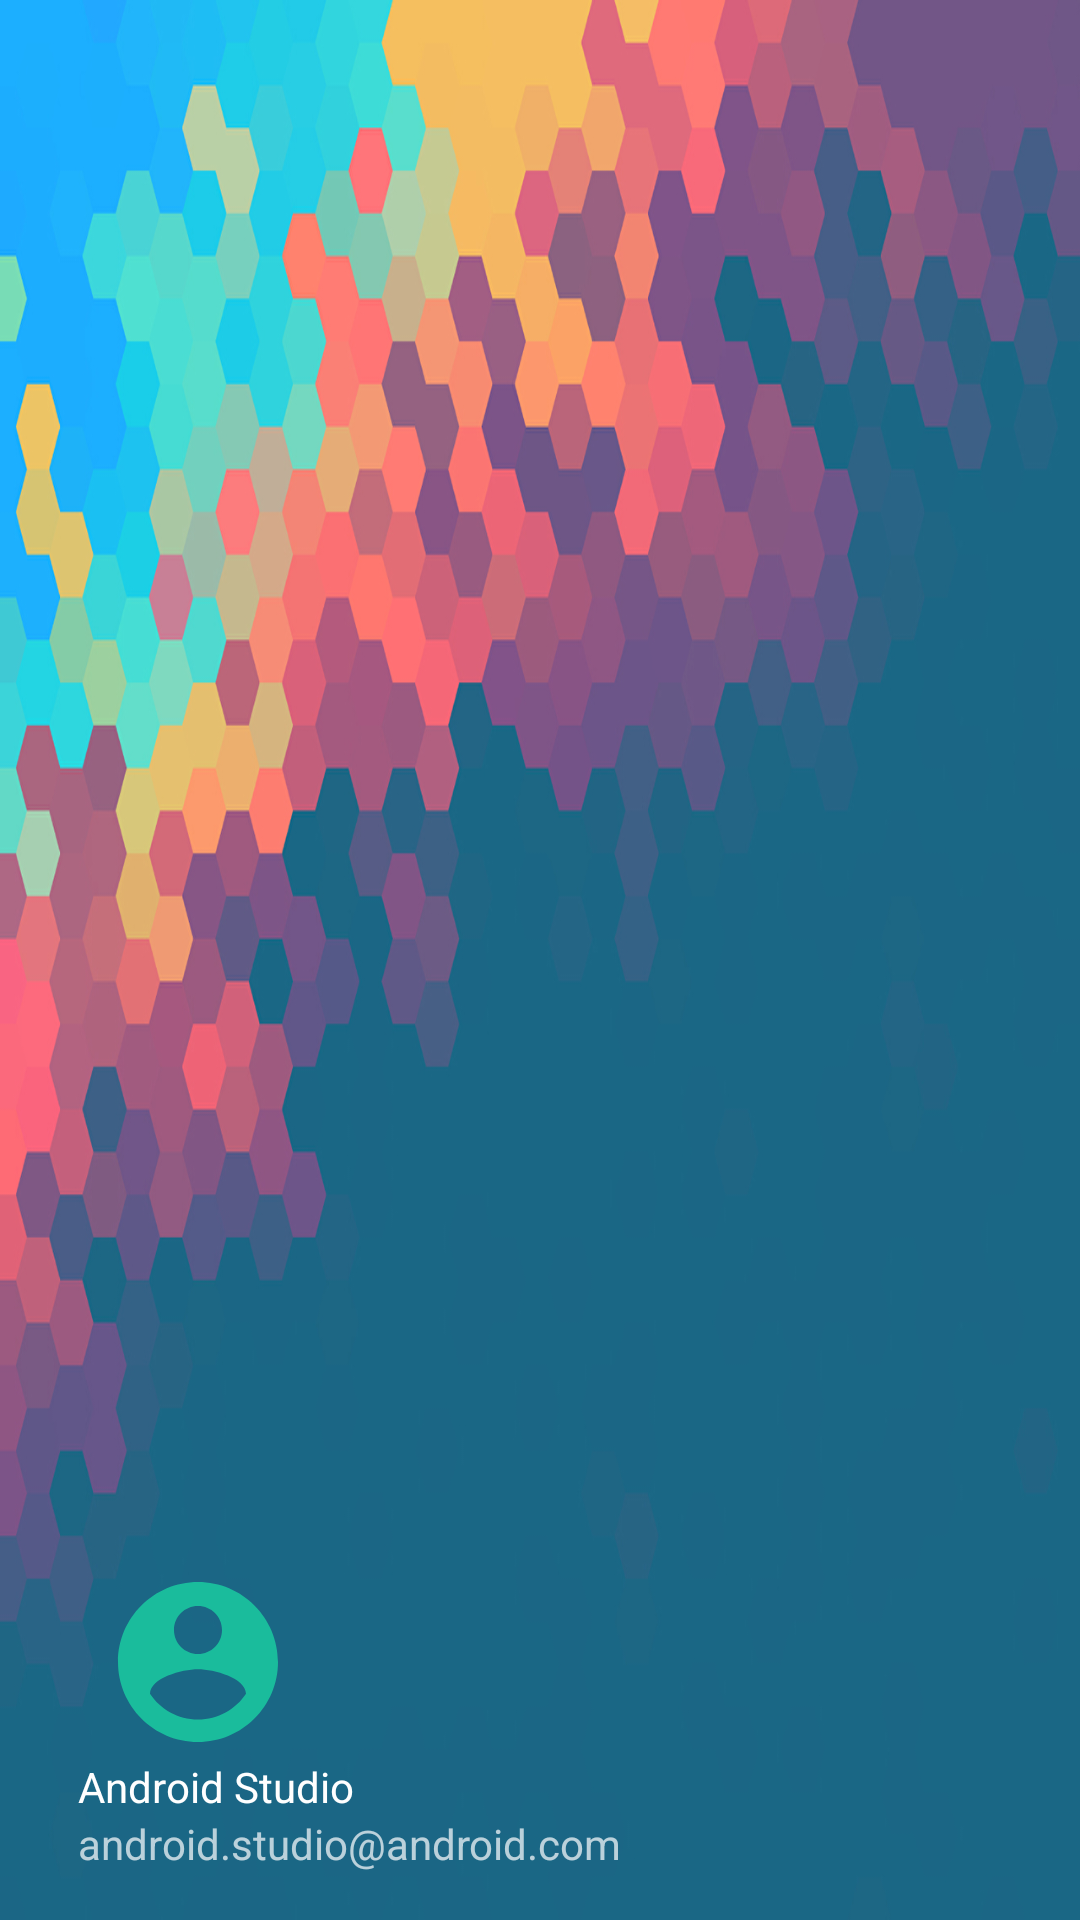

Named icons in this screenshot (1080×1920) and their bounding boxes, (x1, y1, x2, y2):
account: (118, 1582, 278, 1742)
